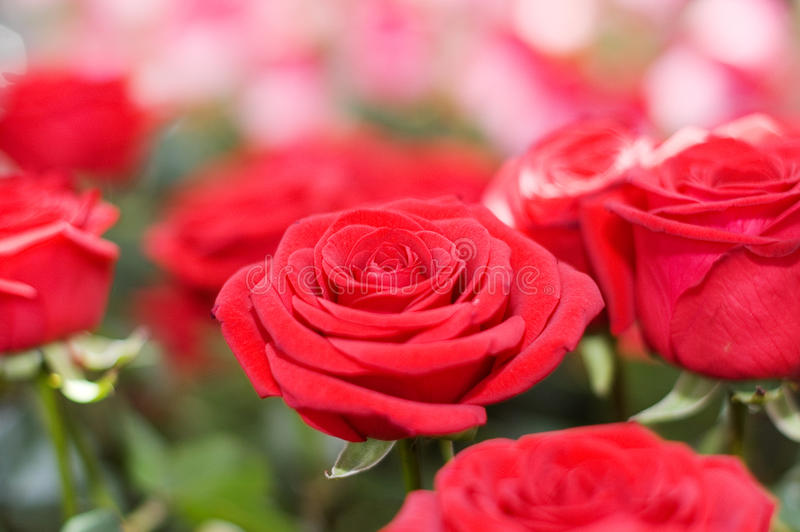RedRose: (205, 193, 609, 441), (372, 415, 797, 532), (608, 137, 800, 395), (483, 113, 649, 313), (0, 183, 143, 356)
